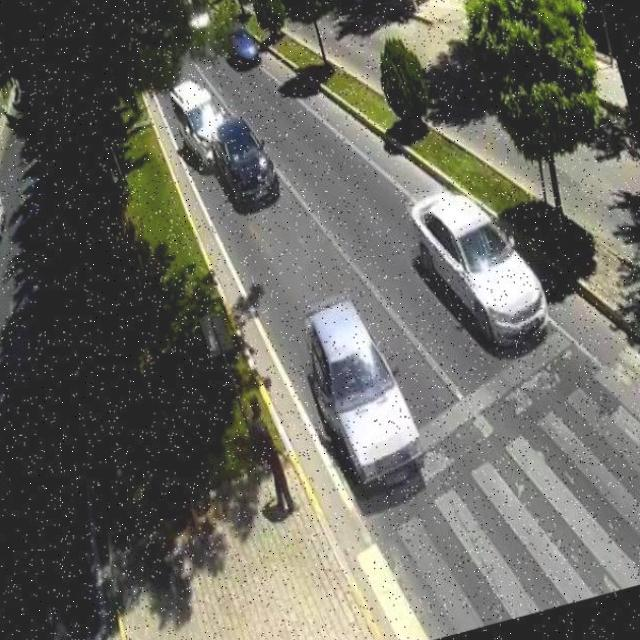accident: (160, 55, 289, 227)
